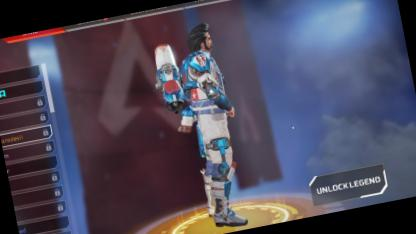Target: (166, 19, 256, 226)
